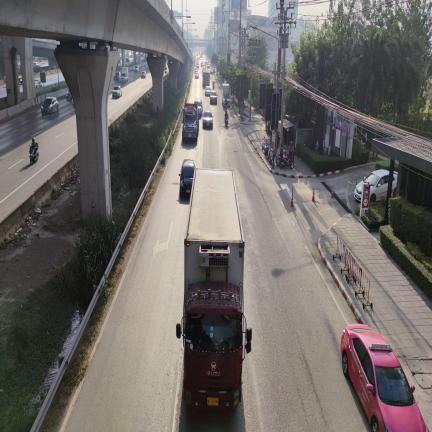car: (363, 169, 389, 202), (179, 159, 195, 195), (41, 97, 59, 115), (202, 110, 213, 128), (194, 98, 203, 116), (354, 182, 362, 201), (112, 85, 122, 99), (392, 172, 398, 195), (209, 90, 217, 105), (114, 71, 121, 80), (205, 86, 211, 96), (141, 71, 146, 79), (133, 65, 139, 71), (125, 58, 130, 65)
motorbike: (276, 150, 294, 169), (29, 147, 39, 165), (262, 138, 269, 154), (268, 147, 273, 163), (225, 117, 228, 127), (213, 82, 214, 90)
taxi: (341, 324, 427, 432)
truck: (176, 169, 252, 414), (182, 103, 199, 141), (222, 84, 230, 107), (202, 71, 210, 88), (120, 67, 128, 83)
